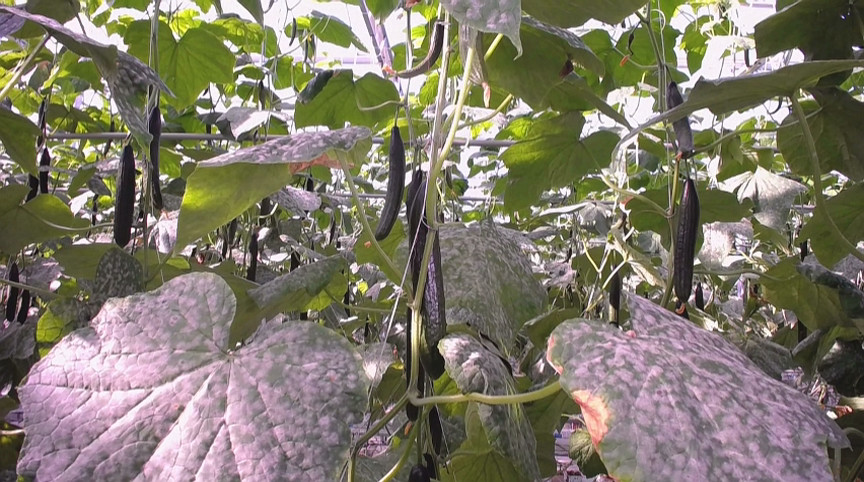cucumber: (409, 172, 446, 379), (375, 127, 407, 241), (673, 179, 700, 305), (115, 146, 142, 248), (7, 263, 19, 322)
